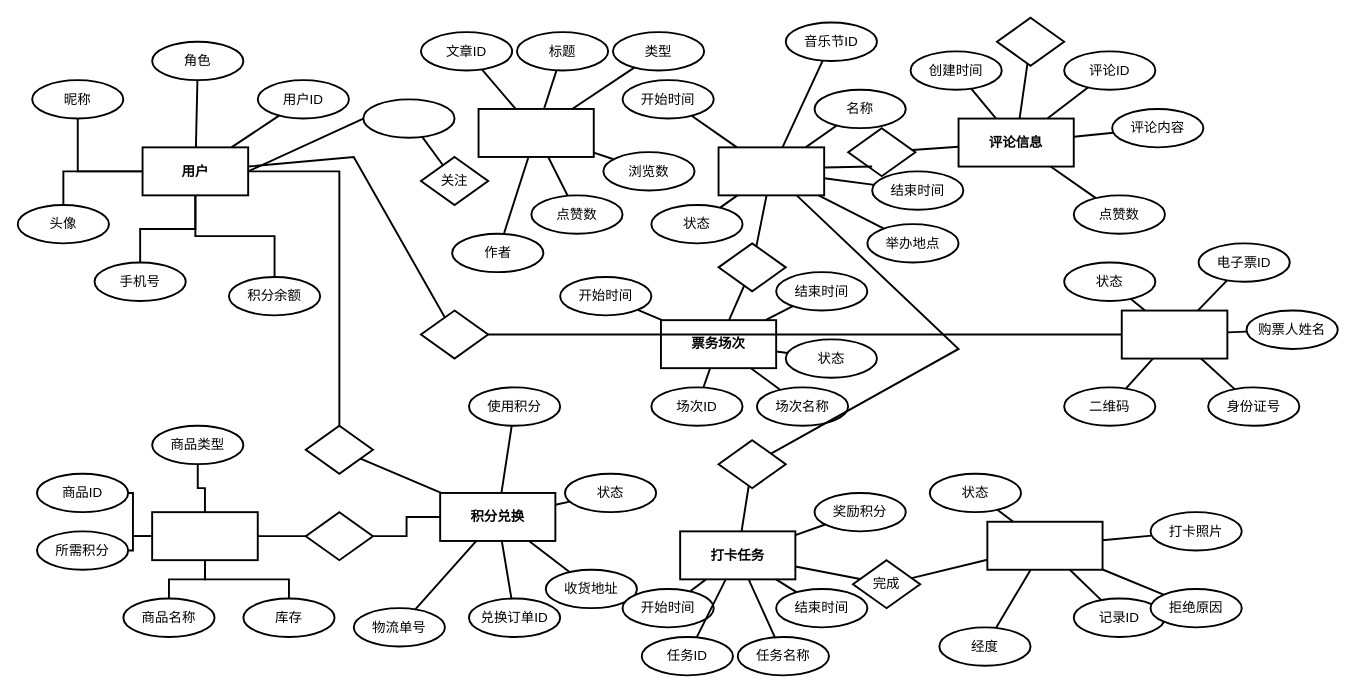
Some shapes in this 1355 by 692 pixel diagram are drawn without their labels. Here are the shapes that lost their labels. From the top down, the box of each, then its label:
(996, 16, 1065, 66): 发表
(362, 98, 455, 138): 关注时间
(477, 108, 594, 157): 文章资讯
(717, 146, 825, 196): 音乐节
(847, 127, 916, 177): 关联
(717, 242, 786, 292): 包含
(420, 309, 489, 359): 购票
(1120, 309, 1228, 359): 电子票
(304, 424, 373, 474): 发起
(717, 439, 786, 489): 发布
(151, 511, 258, 561): 积分商品
(304, 511, 373, 561): 兑换
(986, 520, 1103, 570): 打卡记录
